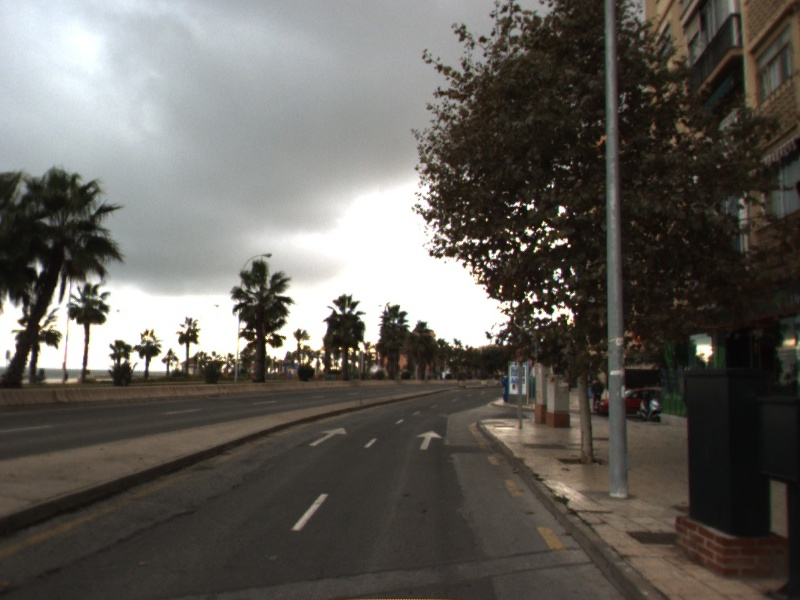STRAIGHT: (307, 426, 348, 448), (415, 429, 445, 451)
